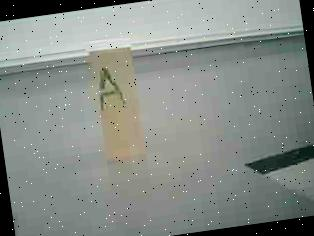Bottle A: (79, 29, 156, 168)
